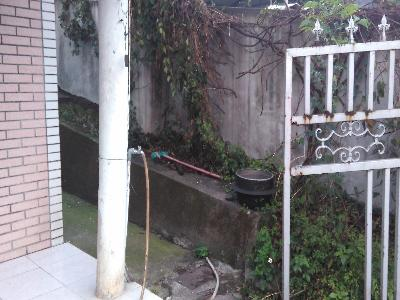bowl: (233, 166, 275, 197)
